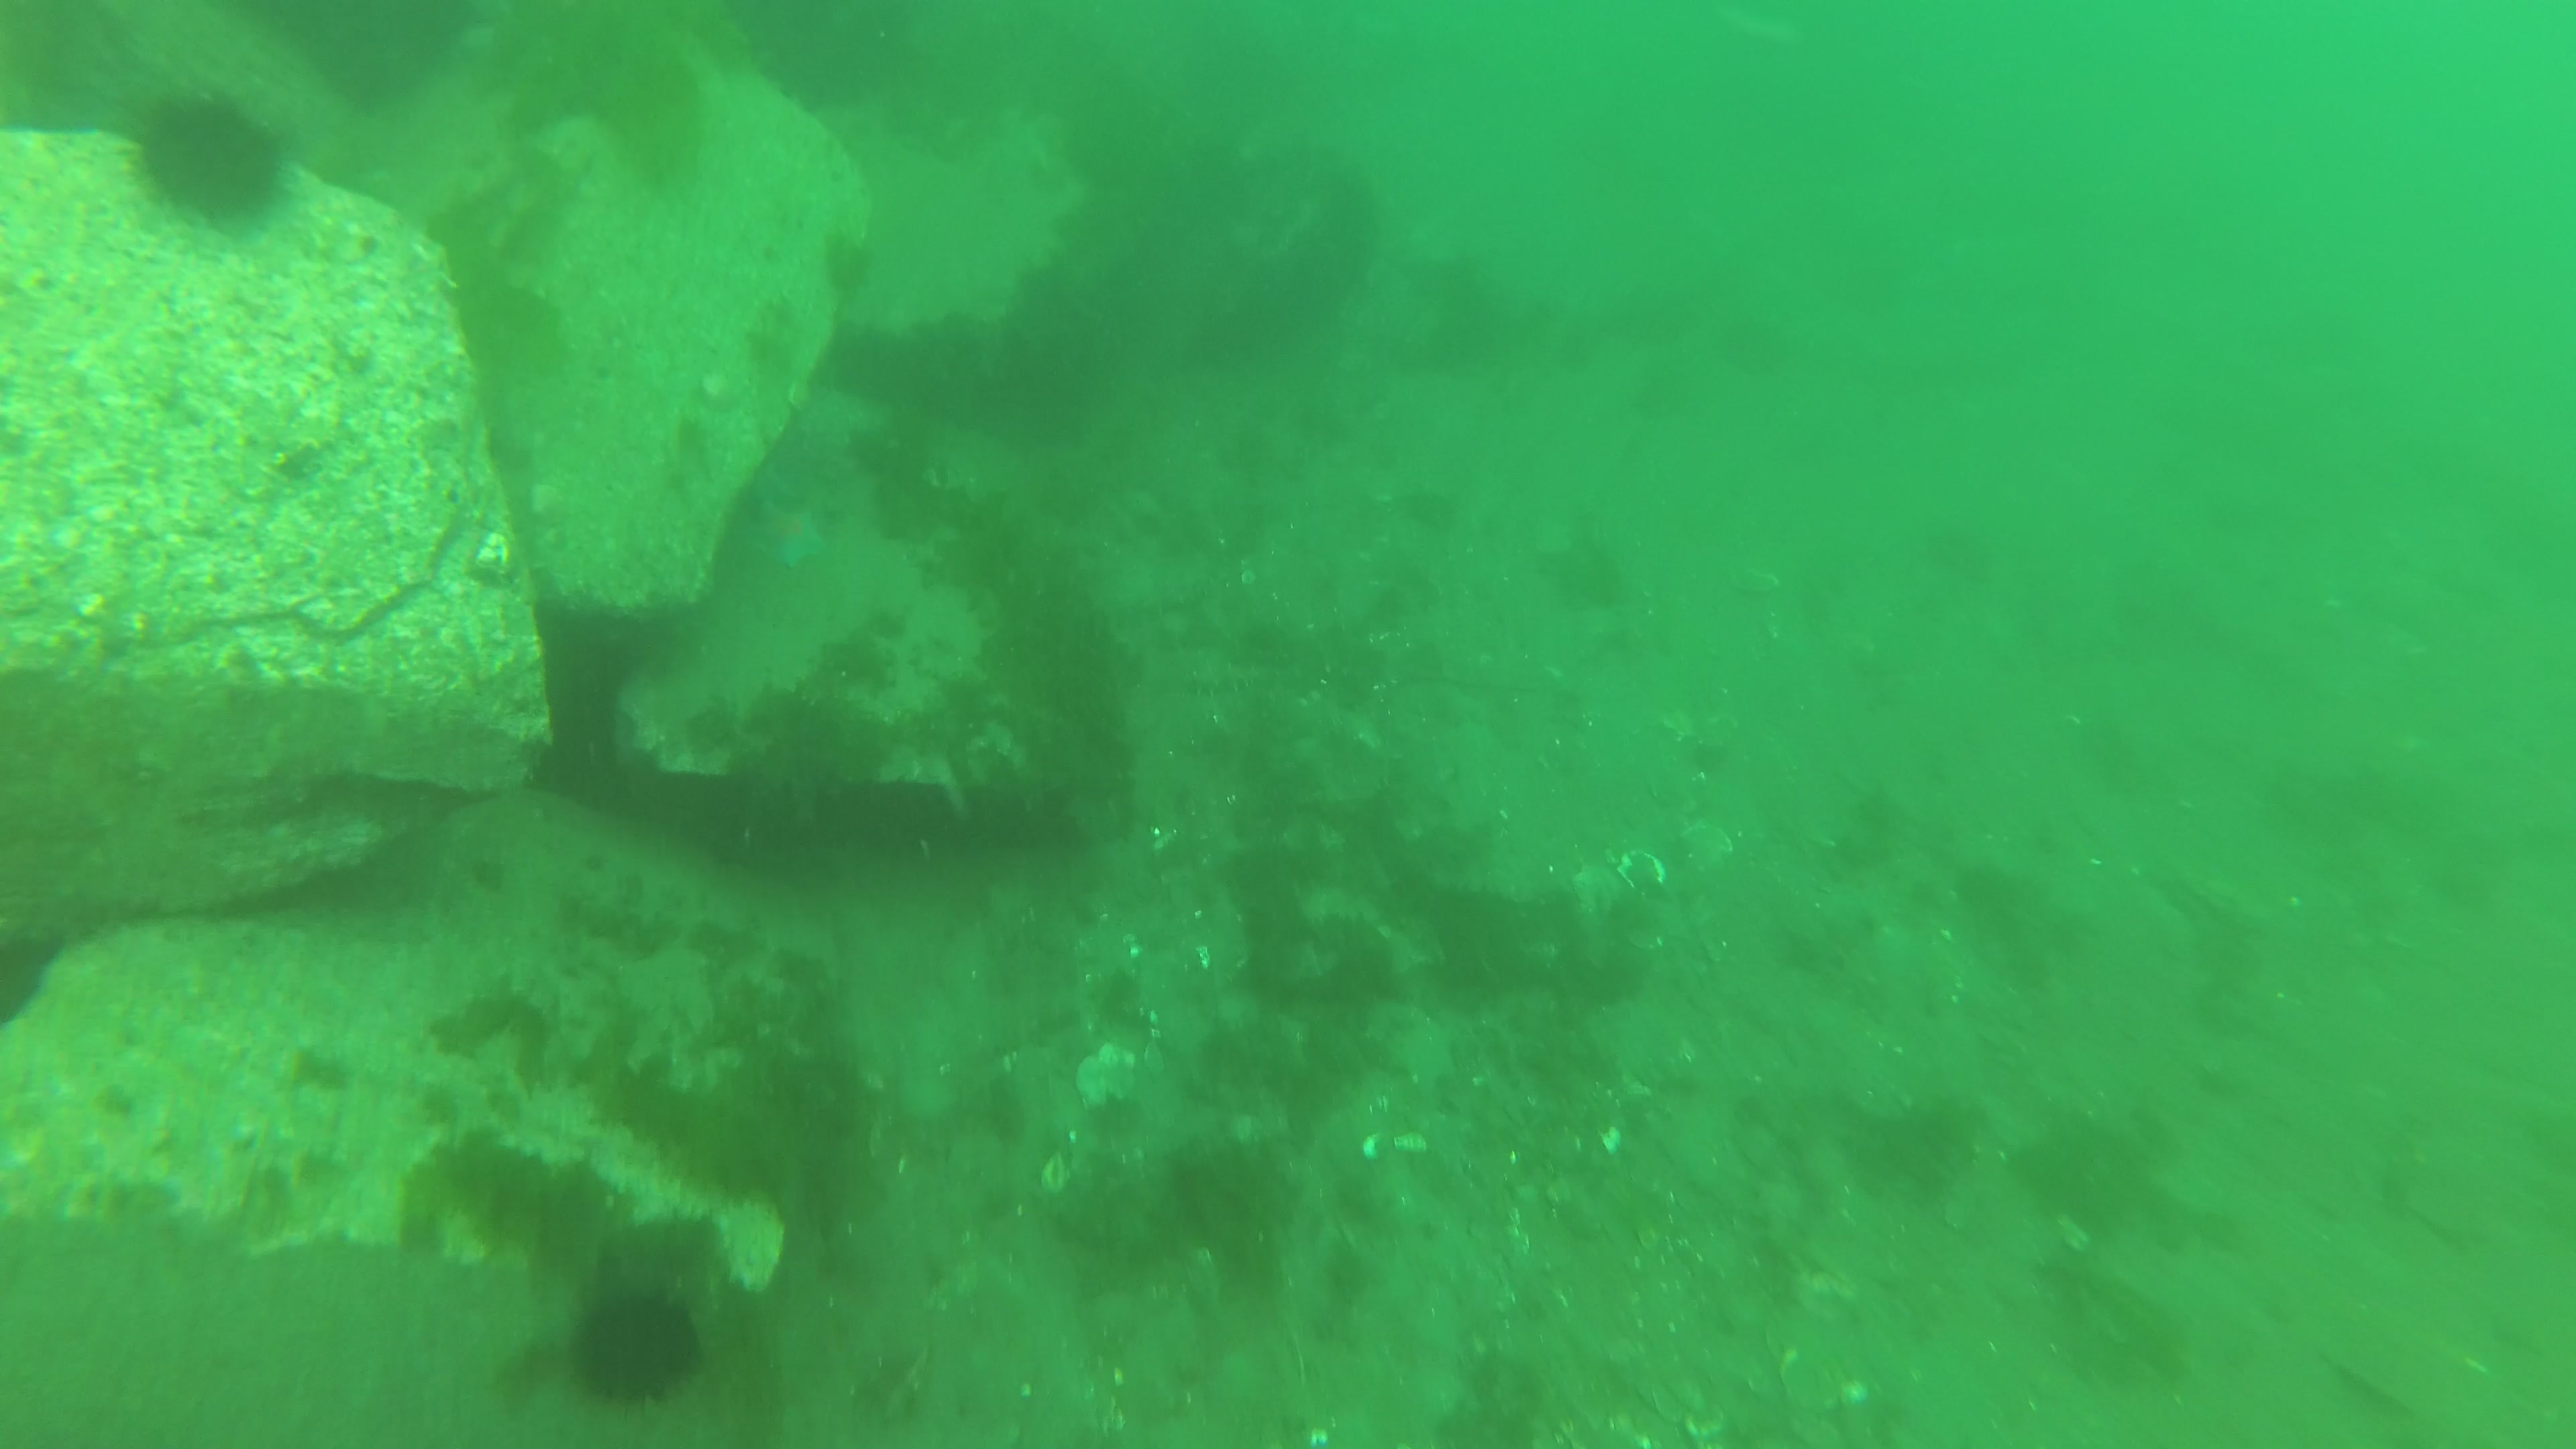echinus: (115, 78, 292, 234), (559, 1272, 713, 1421)
starfish: (732, 487, 840, 577)
